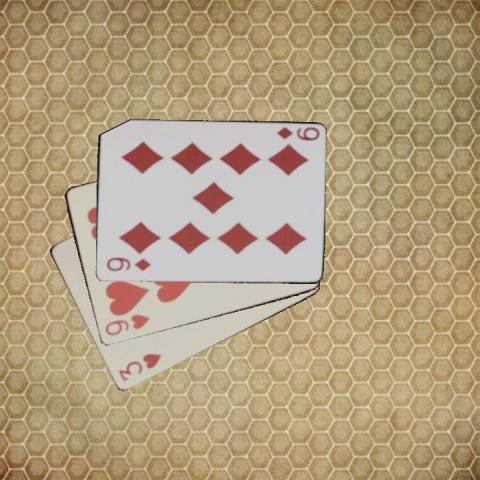3h: (115, 351, 163, 383)
9d: (103, 255, 152, 273), (273, 125, 321, 142)
9h: (101, 312, 151, 338)
